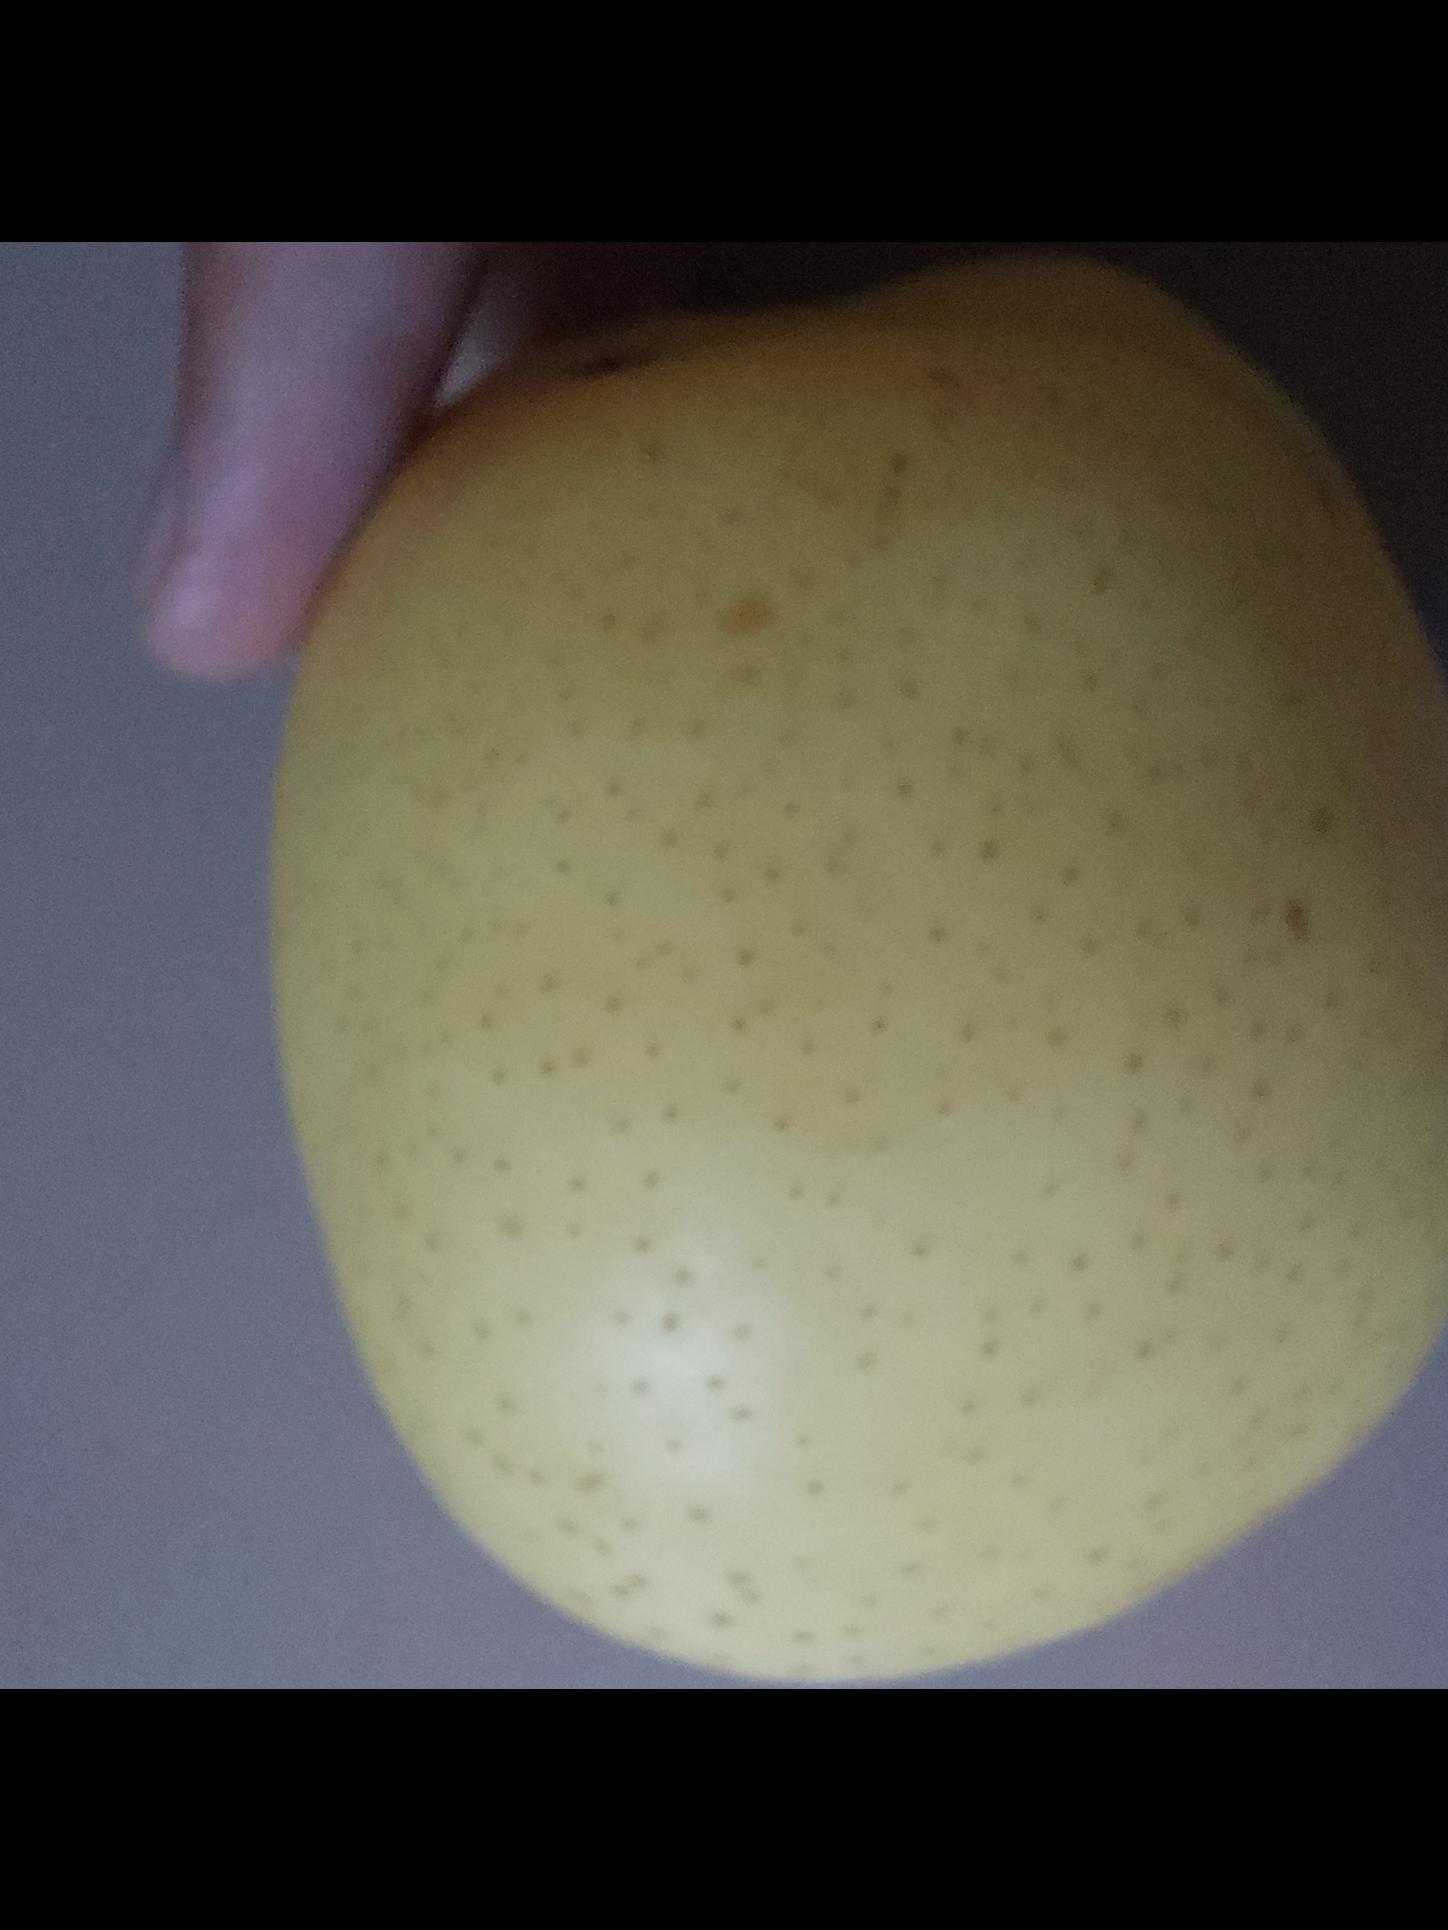Good Pear: (265, 259, 1448, 1690)
